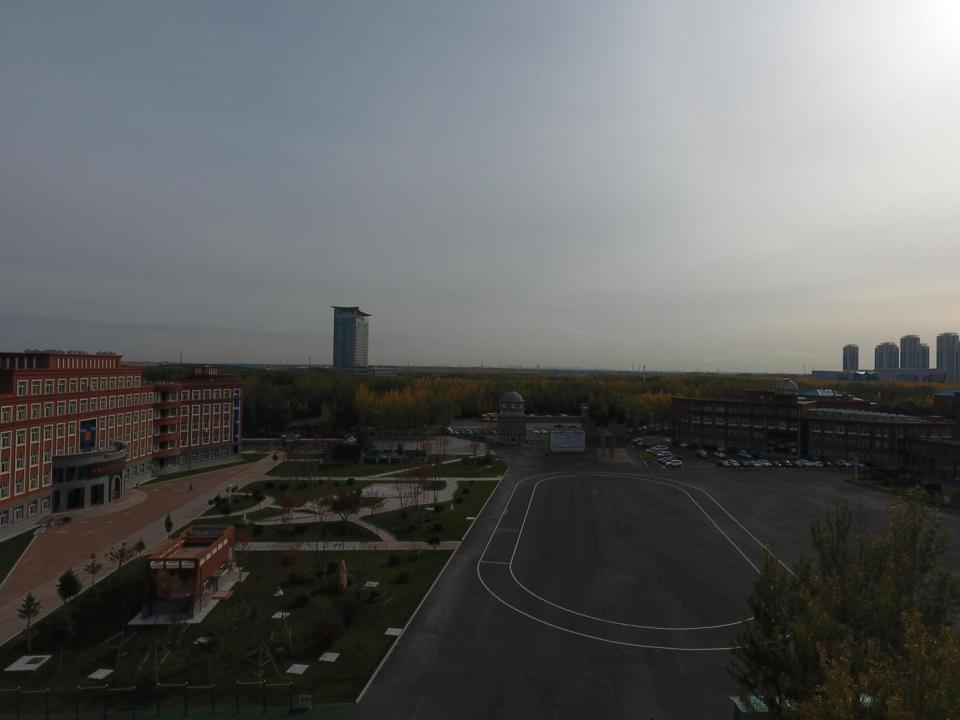bus: (481, 414, 490, 422), (490, 414, 498, 421), (488, 412, 497, 417), (560, 413, 570, 417), (529, 413, 537, 417), (545, 414, 553, 417)
car: (664, 460, 683, 468), (838, 459, 852, 468), (798, 460, 813, 468), (768, 459, 781, 468), (747, 460, 761, 468), (757, 460, 771, 468), (850, 461, 865, 468), (717, 460, 730, 468), (727, 460, 740, 468), (781, 460, 794, 468), (651, 445, 668, 451), (738, 460, 750, 468), (810, 461, 823, 468), (662, 458, 676, 464), (714, 451, 726, 458), (656, 451, 672, 456), (739, 452, 752, 458), (696, 452, 708, 458), (695, 449, 707, 455), (792, 461, 802, 468), (833, 461, 843, 468), (656, 458, 672, 462), (824, 462, 834, 468), (645, 448, 659, 452), (680, 442, 689, 448), (567, 424, 580, 428), (668, 456, 684, 459), (651, 449, 663, 453), (532, 429, 540, 434), (717, 446, 726, 450), (458, 429, 464, 435), (466, 430, 472, 436), (553, 424, 565, 427), (637, 441, 646, 445), (740, 448, 748, 452), (472, 430, 480, 434), (540, 429, 546, 434), (490, 429, 496, 434), (526, 426, 533, 430), (454, 430, 459, 435), (526, 425, 532, 427)
truck: (438, 426, 453, 434)
